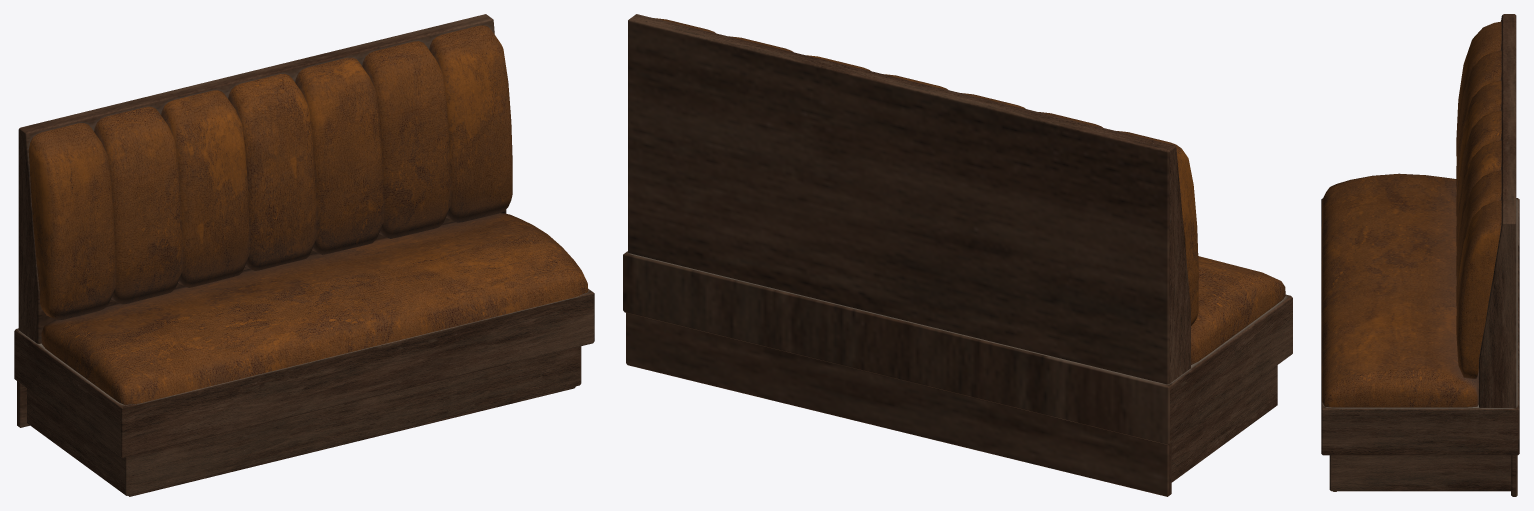
Rendered from SM_Seat_01_A.fbx.
3 views of the same model, side by side, from view 1: azimuth 30°, elevation 25°; view 2: azimuth 150°, elevation 25°; view 3: azimuth 270°, elevation 25° (orthographic). The views are drawn at different scales.
Visible parts, largest first — view 1: SM_Seat_01_A_LOD0; view 2: SM_Seat_01_A_LOD0; view 3: SM_Seat_01_A_LOD0.
Part boxes in pixels (<box>): SM_Seat_01_A_LOD0: <box>14,14,594,496</box>; SM_Seat_01_A_LOD0: <box>623,14,1292,496</box>; SM_Seat_01_A_LOD0: <box>1321,14,1519,496</box>.
Size of the model in its own units: 152 by 60.18 by 91.86.
